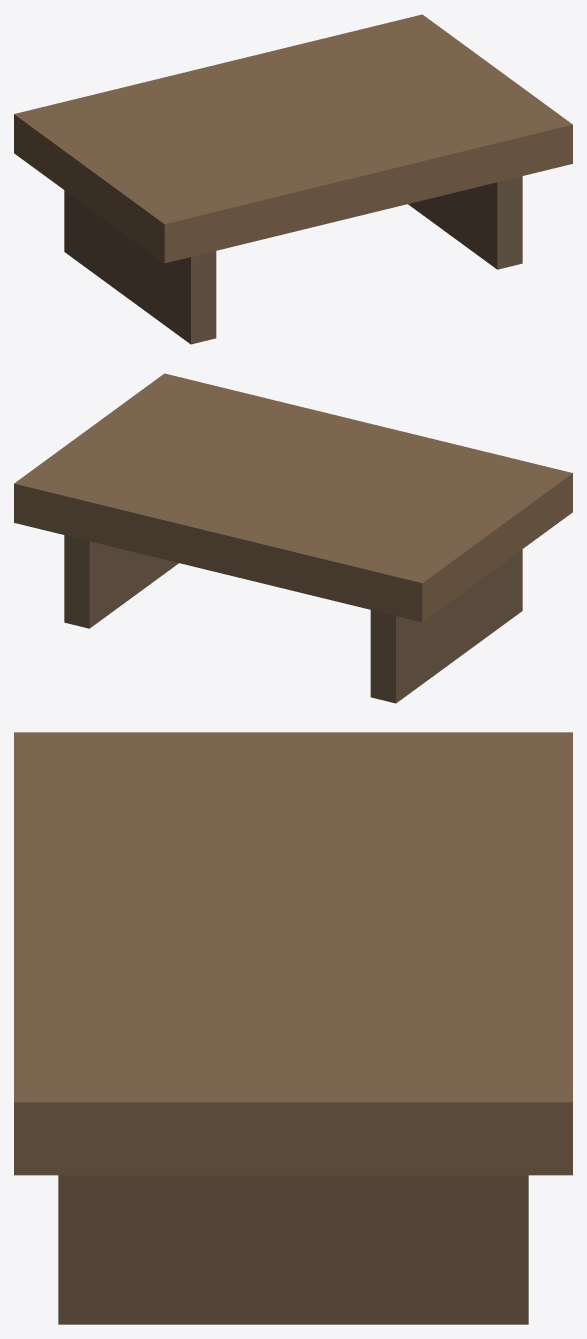
File: Taburet.fbx
3 views of the same model, one above another, from view 1: azimuth 30°, elevation 25°; view 2: azimuth 150°, elevation 25°; view 3: azimuth 270°, elevation 25° (orthographic). The views are drawn at different scales.
Visible parts, largest first — view 1: Taburet; view 2: Taburet; view 3: Taburet.
Part boxes in pixels (x1,y1,x2,y2): Taburet: [14, 14, 572, 344]; Taburet: [14, 373, 572, 703]; Taburet: [14, 732, 572, 1324].
Bounding box in the file's own units: 151 × 48.77 × 96.18.
1 material, 1 textured.
